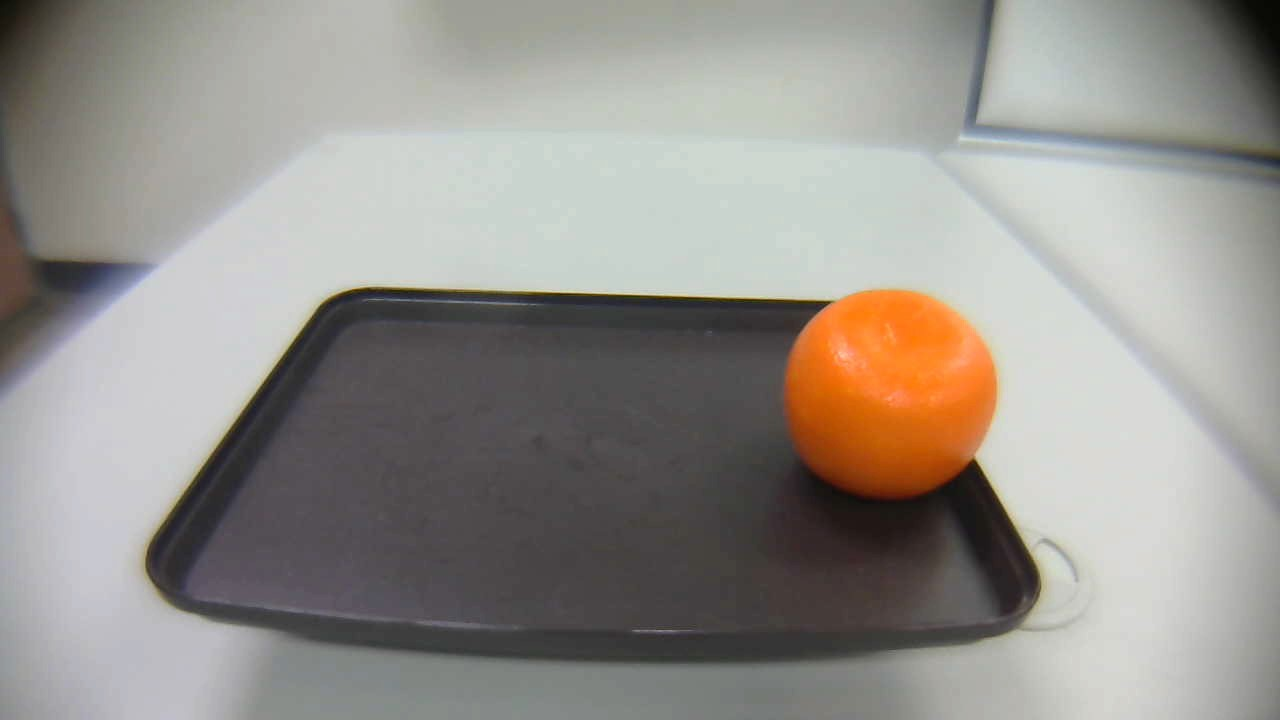orange: (780, 288, 1001, 503)
